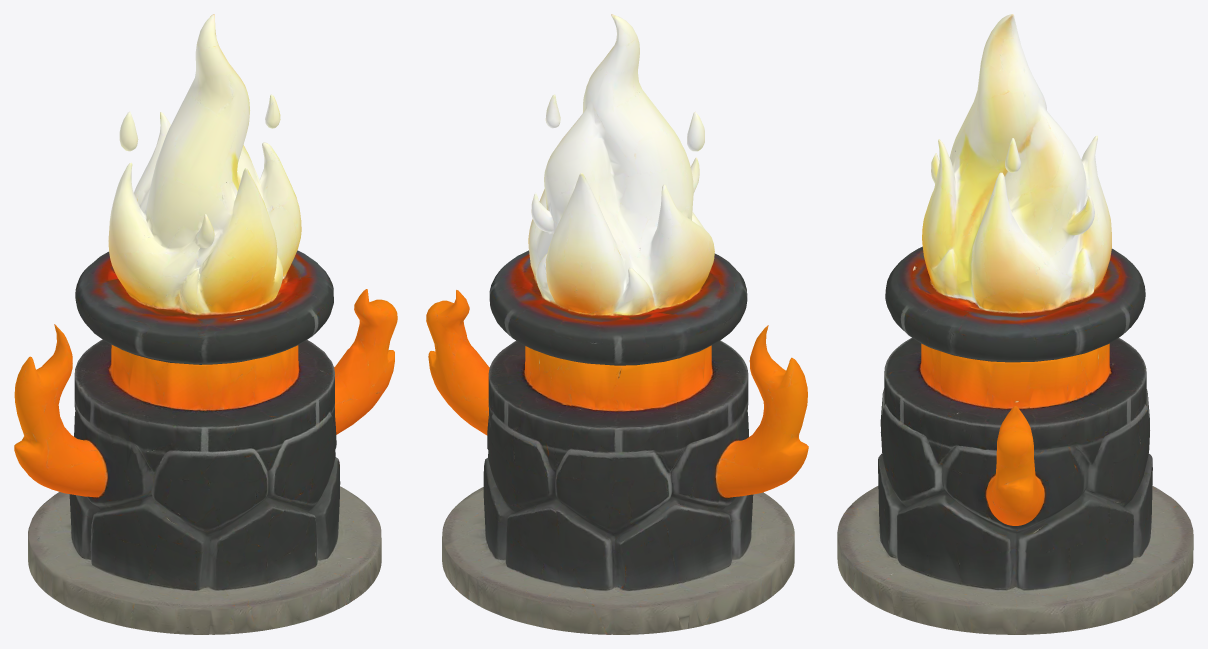
File: trap-fire.glb
3 views of the same model, side by side, from view 1: azimuth 30°, elevation 25°; view 2: azimuth 150°, elevation 25°; view 3: azimuth 270°, elevation 25° (orthographic).
Bounding box in the file's own units: 1.38 × 1.9 × 1.12.
Materials: 1 (1 with a texture image).
